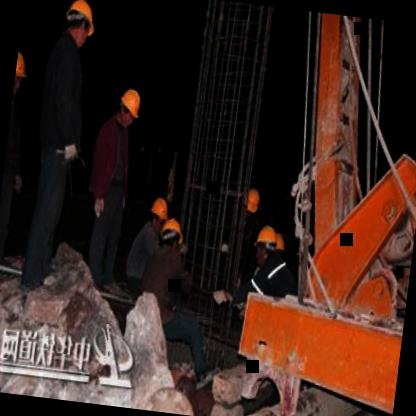helmet: (58, 0, 99, 53), (112, 83, 145, 131), (250, 224, 284, 266), (144, 193, 172, 235), (12, 46, 31, 101), (156, 217, 184, 254), (238, 187, 260, 222)
